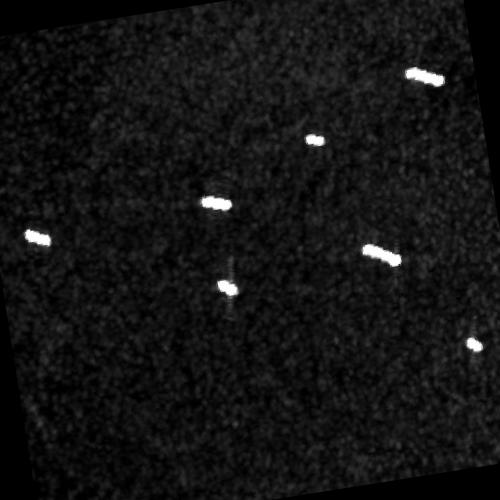ship: (361, 242, 402, 268), (404, 66, 446, 86), (23, 228, 53, 247), (201, 195, 233, 211), (217, 279, 239, 296), (304, 133, 326, 147), (465, 336, 484, 352)
